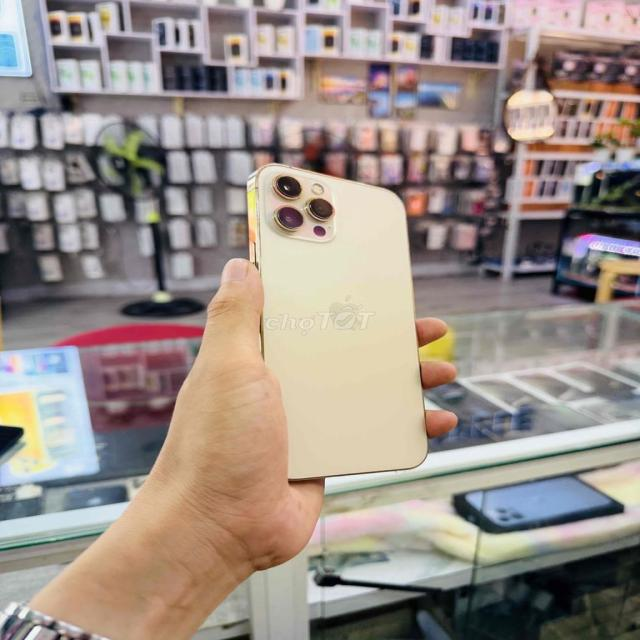gen_12_13: (233, 154, 431, 484)
